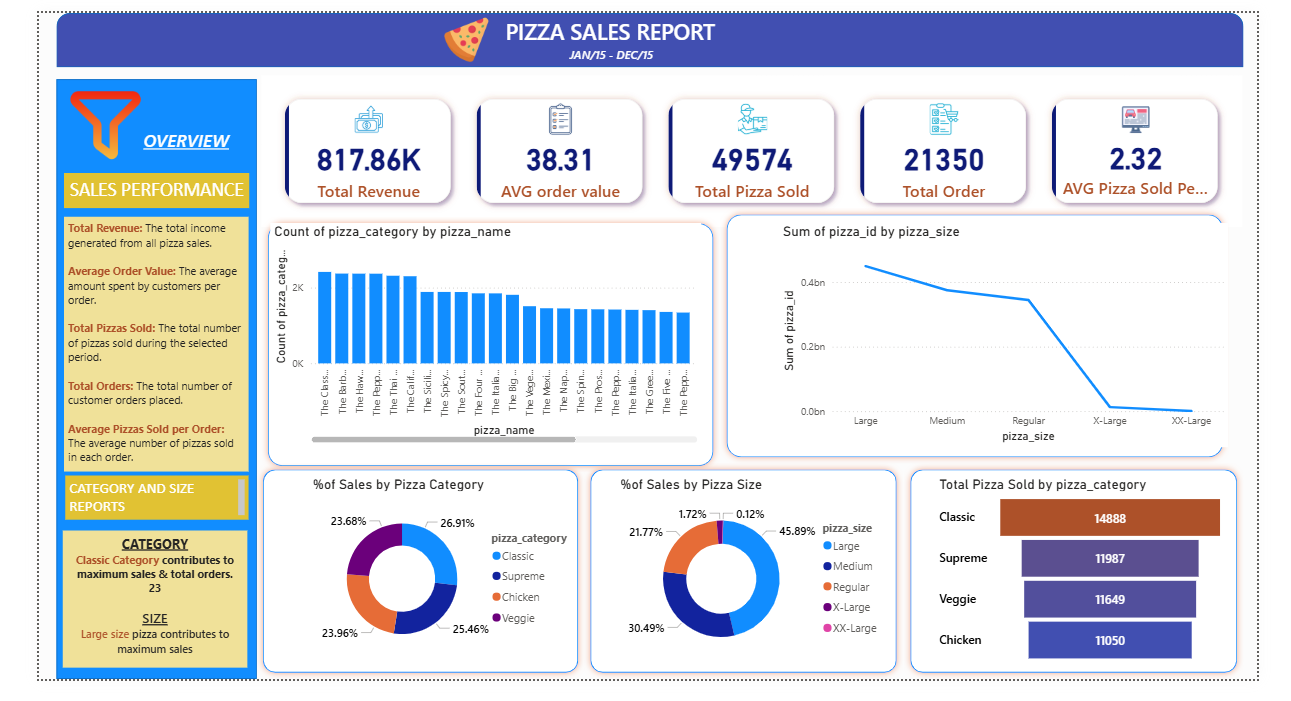

Layout of this report page (visuals, bound fields, positions):
{"tool":"powerbi","page":{"name":"Page 1","canvas":[1500,820],"ordinal":0},"visuals":[{"type":"cardVisual","fields":{"Data":["pizza_sales.Total Revenue","pizza_sales.AVG order value","pizza_sales.Total Pizza Sold","pizza_sales.Total Order","pizza_sales.AVG Pizza Sold Per Order"]},"box":[274.4,76.6,1207.4,186.6],"z":0},{"type":"shape","box":[20.9,0,1460.9,66.8],"z":1000},{"type":"textbox","box":[548.7,0,314.7,57.1],"z":2000},{"type":"textbox","box":[571,37.6,267.4,39],"z":3000},{"type":"image","box":[481.9,4.2,89.1,57.1],"z":4000},{"type":"shape","box":[274.4,250.7,564,314.7],"z":4001},{"type":"columnChart","fields":{"Y":["CountNonNull(pizza_sales.pizza_category)"],"Category":["pizza_sales.pizza_name"]},"box":[284.1,259,530.6,275.7],"z":4002},{"type":"shape","box":[838.4,239.5,626.7,314.7],"z":4003},{"type":"lineChart","fields":{"Category":["pizza_sales.pizza_size"],"Y":["Sum(pizza_sales.pizza_id)"]},"box":[910.8,259,552.9,275.7],"z":4004},{"type":"shape","box":[267.4,554.3,403.9,266],"z":4005},{"type":"shape","box":[671.3,554.3,392.7,266],"z":4006},{"type":"shape","box":[1064,554.3,417.8,266],"z":4007},{"type":"donutChart","title":"%of Sales by Pizza Category","fields":{"Category":["pizza_sales.pizza_category"],"Y":["pizza_sales.Total Revenue"]},"box":[332.8,569.6,338.4,235.4],"z":4008},{"type":"donutChart","title":"%of Sales by Pizza Size","fields":{"Y":["pizza_sales.Total Revenue"],"Category":["pizza_sales.pizza_size"]},"box":[710.3,569.6,338.4,235.4],"z":4009},{"type":"funnel","fields":{"Category":["pizza_sales.pizza_category"],"Y":["pizza_sales.Total Pizza Sold"]},"box":[1103,569.6,360.7,235.4],"z":4010},{"type":"shape","box":[20.9,82.2,246.5,738.1],"z":4011},{"type":"textbox","box":[30.6,196.4,228.4,43.2],"z":4012},{"type":"textbox","box":[30.6,250.7,227,313.4],"z":4013},{"type":"textbox","box":[32,569.6,225.6,54.3],"z":4014},{"type":"textbox","box":[29.2,636.5,227,168.5],"z":4015},{"type":"image","box":[20.9,61.3,121.2,150.4],"z":4016},{"type":"textbox","box":[104.5,136.5,153.2,46],"z":4017}]}

Visuals, with their boxes in screenshot pixels (x1, y1, x2, y2), scaled from the page's 1500x820 canvas onto the 1291x701 screenshot:
cardVisual - pizza_sales.Total Revenue x pizza_sales.AVG order value: Rect(236, 65, 1275, 225)
shape: Rect(18, 0, 1275, 57)
textbox: Rect(472, 0, 743, 49)
textbox: Rect(491, 32, 722, 65)
image: Rect(415, 4, 491, 52)
shape: Rect(236, 214, 722, 483)
columnChart - CountNonNull(pizza_sales.pizza_category) x pizza_sales.pizza_name: Rect(245, 221, 701, 457)
shape: Rect(722, 205, 1261, 474)
lineChart - pizza_sales.pizza_size x Sum(pizza_sales.pizza_id): Rect(784, 221, 1260, 457)
shape: Rect(230, 474, 578, 700)
shape: Rect(578, 474, 916, 700)
shape: Rect(916, 474, 1275, 700)
"%of Sales by Pizza Category" donutChart: Rect(286, 487, 578, 688)
"%of Sales by Pizza Size" donutChart: Rect(611, 487, 903, 688)
funnel - pizza_sales.pizza_category x pizza_sales.Total Pizza Sold: Rect(949, 487, 1260, 688)
shape: Rect(18, 70, 230, 700)
textbox: Rect(26, 168, 223, 205)
textbox: Rect(26, 214, 222, 482)
textbox: Rect(28, 487, 222, 533)
textbox: Rect(25, 544, 221, 688)
image: Rect(18, 52, 122, 181)
textbox: Rect(90, 117, 222, 156)
